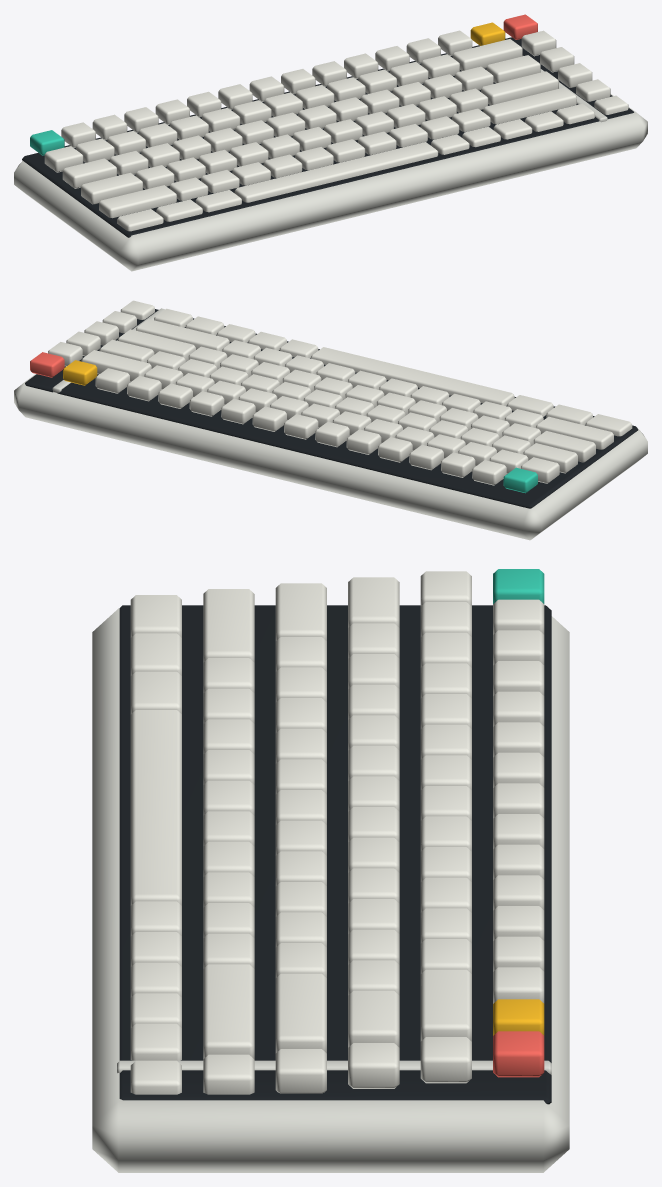
File: lod2_source.glb
3 views of the same model, one above another, from view 1: azimuth 30°, elevation 25°; view 2: azimuth 150°, elevation 25°; view 3: azimuth 270°, elevation 25° (orthographic). The views are drawn at different scales.
Visible parts, largest first — view 1: Keyboard shell, Main recessed deck, Keycap bottom 03, Keycap shift row 11, Keycap shift row 00, Keycap row3-12, Keycap row1-13, Keycap row3-00, Keycap row2-00, Keycap row2-13, Keycap row1-00, Keycap bottom 00 (+74 smaller); view 2: Keyboard shell, Main recessed deck, Keycap bottom 03, Keycap shift row 11, Keycap shift row 00, Keycap row3-12, Keycap row1-13, Keycap row3-00, Keycap row2-00, Keycap row2-13, Keycap function 10, Keycap function 05 (+74 smaller); view 3: Main recessed deck, Keyboard shell, Keycap bottom 03, Separated right navigation deck, Keycap shift row 11, Keycap row3-12, Keycap shift row 00, Keycap row1-13, Keycap row3-00, Keycap row2-13, Keycap row2-00, Keycap separated coral (+75 smaller).
Boxes of the visible parts, x1,y1,x2,y2 form: Keyboard shell: (14, 94, 647, 271); Main recessed deck: (22, 45, 598, 237); Keycap bottom 03: (234, 142, 438, 202); Keycap shift row 11: (483, 87, 576, 124); Keycap shift row 00: (99, 185, 176, 218); Keycap row3-12: (481, 71, 558, 105); Keycap row1-13: (452, 39, 522, 70); Keycap row3-00: (81, 172, 142, 204); Keycap row2-00: (62, 158, 116, 188); Keycap row2-13: (486, 55, 540, 83); Keycap row1-00: (44, 146, 83, 172); Keycap bottom 00: (117, 209, 163, 231); Keyboard shell: (14, 374, 647, 540); Main recessed deck: (57, 318, 638, 508); Keycap bottom 03: (311, 347, 514, 405); Keycap shift row 11: (136, 319, 229, 351); Keycap shift row 00: (536, 416, 613, 449); Keycap row3-12: (118, 329, 195, 361); Keycap row1-13: (81, 350, 151, 381); Keycap row3-00: (533, 431, 595, 462); Keycap row2-00: (523, 443, 577, 473); Keycap row2-13: (99, 339, 154, 362); Keycap function 10: (189, 391, 224, 416); Keycap function 05: (346, 429, 381, 454); Main recessed deck: (119, 605, 551, 1062); Keyboard shell: (92, 608, 569, 1172); Keycap bottom 03: (130, 710, 181, 905); Separated right navigation deck: (119, 1070, 551, 1104); Keycap shift row 11: (203, 964, 254, 1059); Keycap row3-12: (275, 973, 326, 1053); Keycap shift row 00: (203, 589, 254, 662); Keycap row1-13: (420, 969, 471, 1041); Keycap row3-00: (275, 583, 326, 640); Keycap row2-13: (348, 990, 399, 1047); Keycap row2-00: (348, 577, 399, 627); Keycap separated coral: (493, 1031, 544, 1077).
Bounding box in the file's own units: 0.37 × 0.0391 × 0.145.
